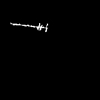treble_crochet: (13, 23, 47, 30)
